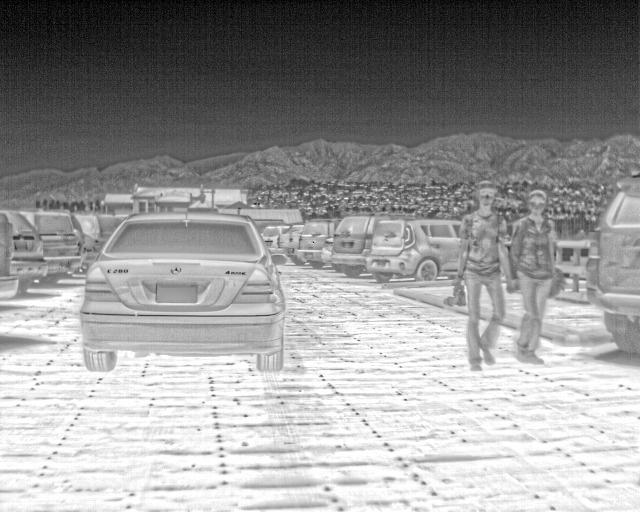bicycle: (78, 211, 286, 373), (580, 173, 636, 359), (364, 216, 466, 285), (22, 210, 77, 285), (330, 216, 385, 279), (5, 210, 48, 279), (291, 218, 339, 270), (0, 211, 22, 302), (76, 209, 123, 243), (261, 223, 292, 267), (75, 227, 105, 270), (277, 222, 304, 266)
empty: (507, 188, 559, 367), (463, 184, 507, 371)
